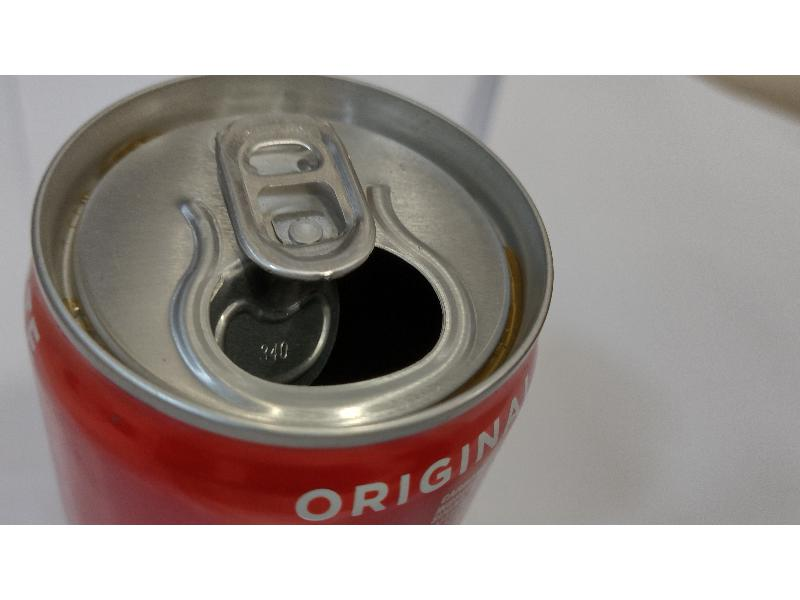can: (21, 75, 555, 521)
